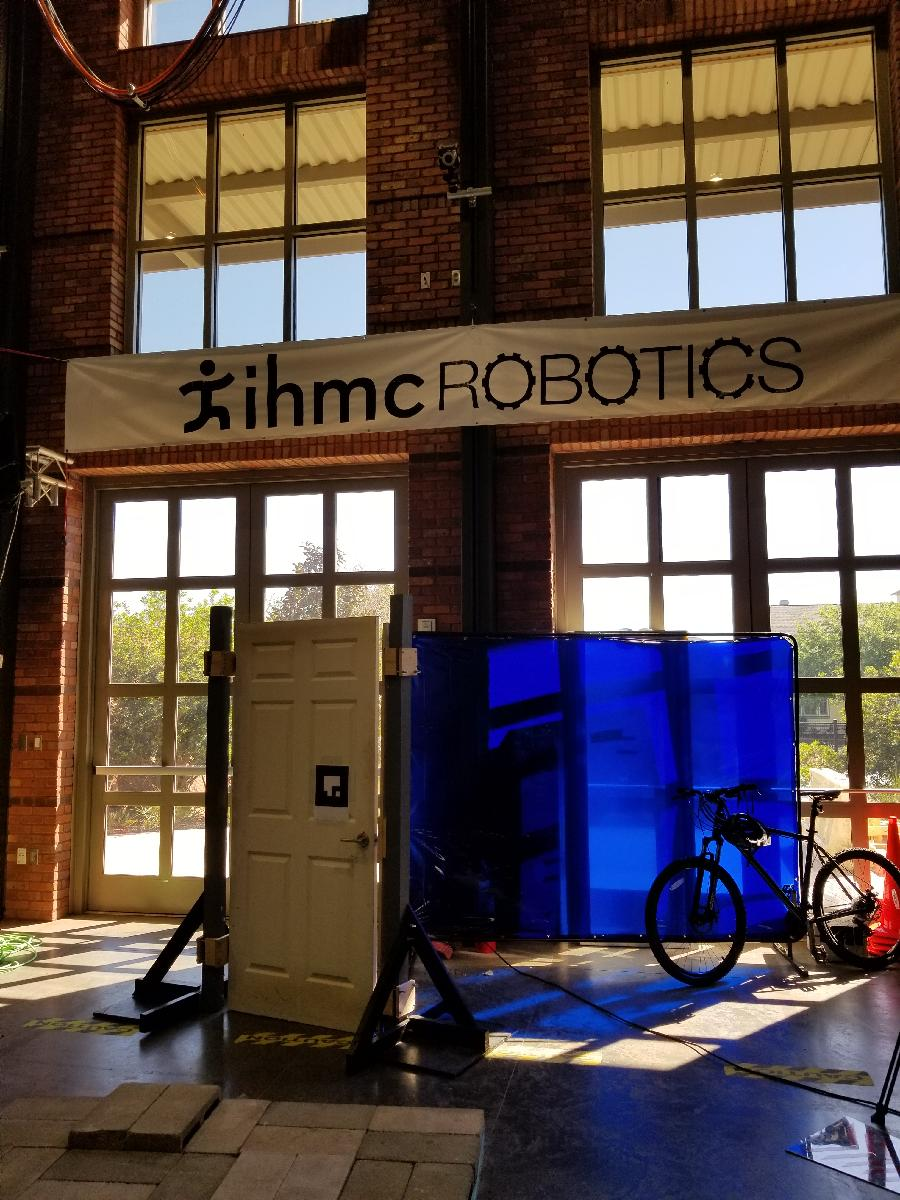door: (224, 613, 382, 1038)
doorHandle: (338, 827, 376, 854)
